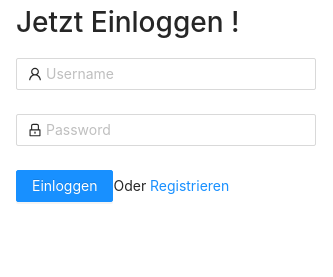
<Authenticationarea/> › simulates button clicks
The image size is (333, 277).
Click the link with class "registerlink" at point(190, 186), box [150,177,229,194]
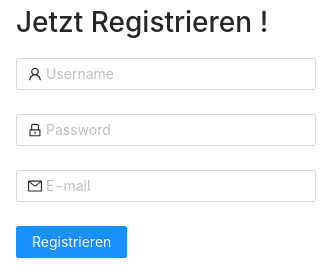
Check: the heading "Jetzt Registrieren !" is shown, box [16,5,268,39]
